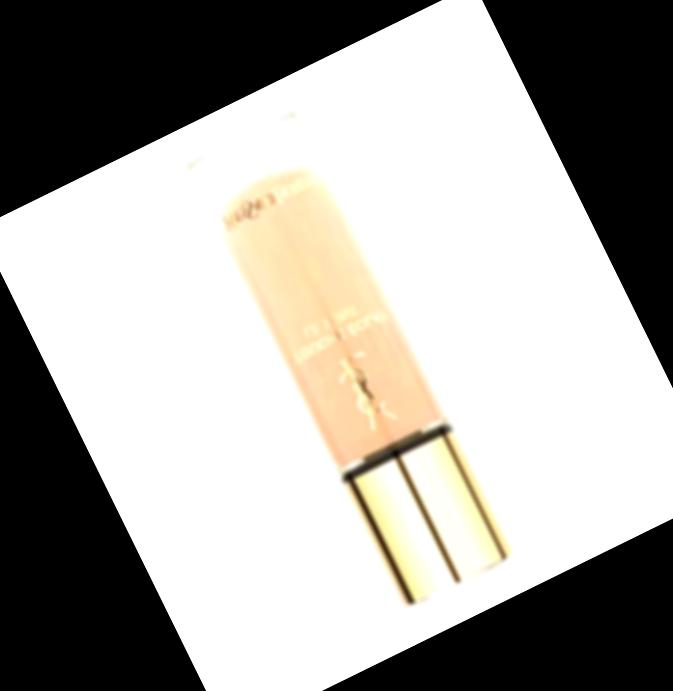cosmetic: (179, 97, 522, 613)
